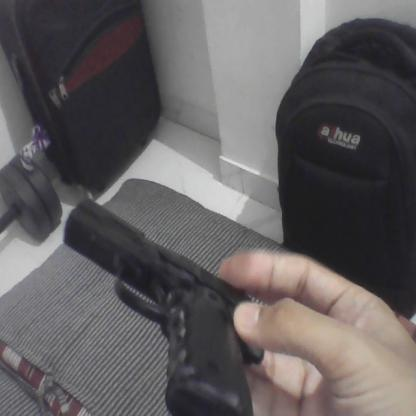handgun: (62, 198, 265, 416)
